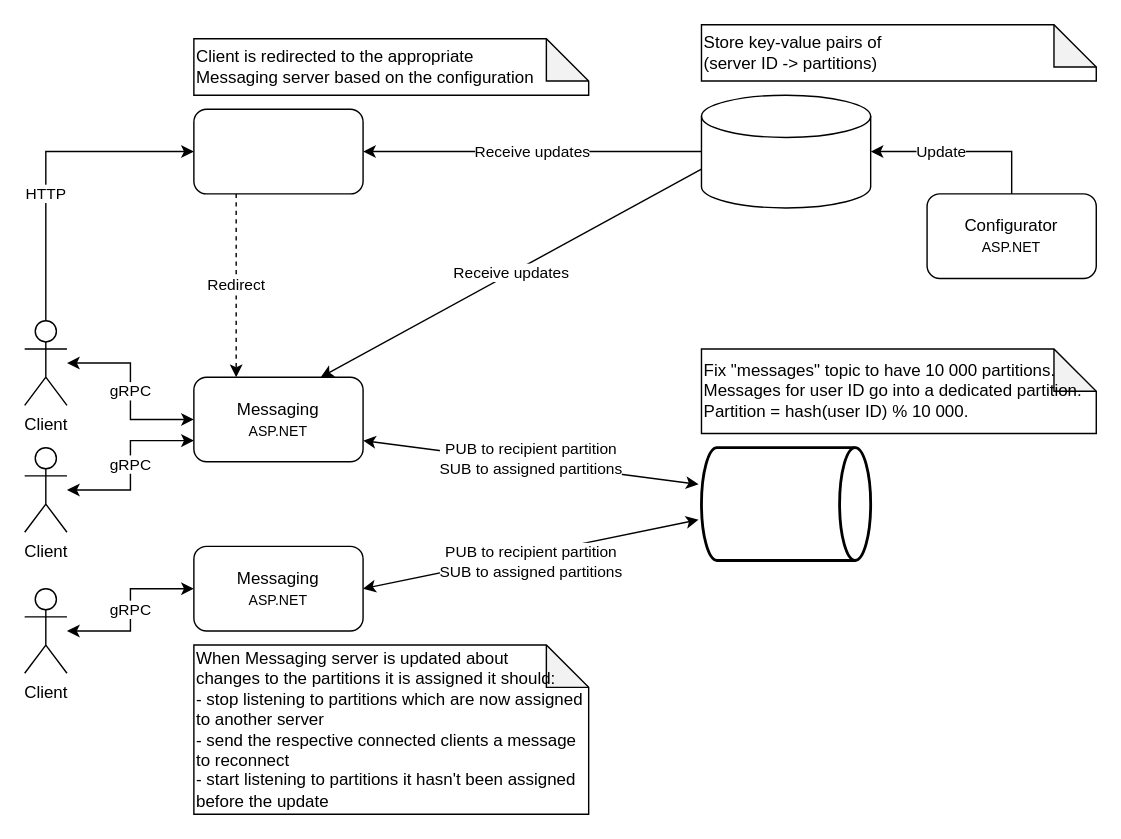
Image size: 1121x839. Some labels were removed from this diagram. The box of each missing label's shape, as (x1, y1, x2, y2) in pixels:
Configuration Redis cluster: (700, 94, 871, 208)
Connect ASP.NET: (192, 108, 363, 194)
PUB/SUB Kafka cluster: (699, 446, 871, 561)
